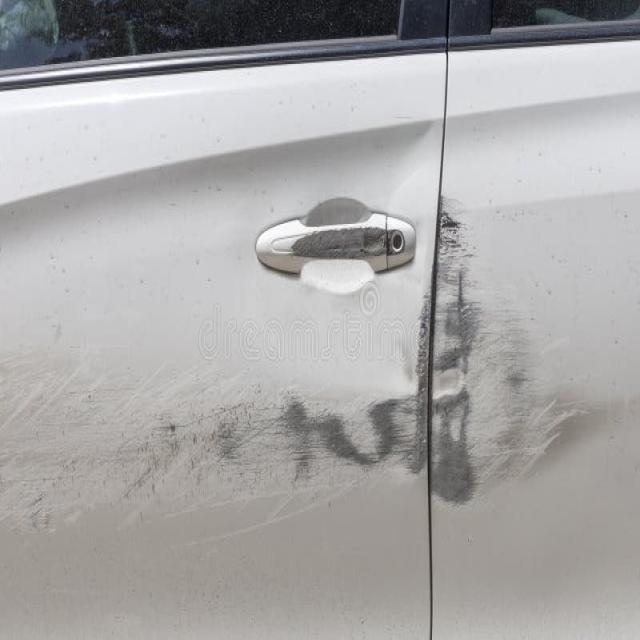dent: (365, 112, 437, 165)
scratch: (0, 191, 640, 561)
